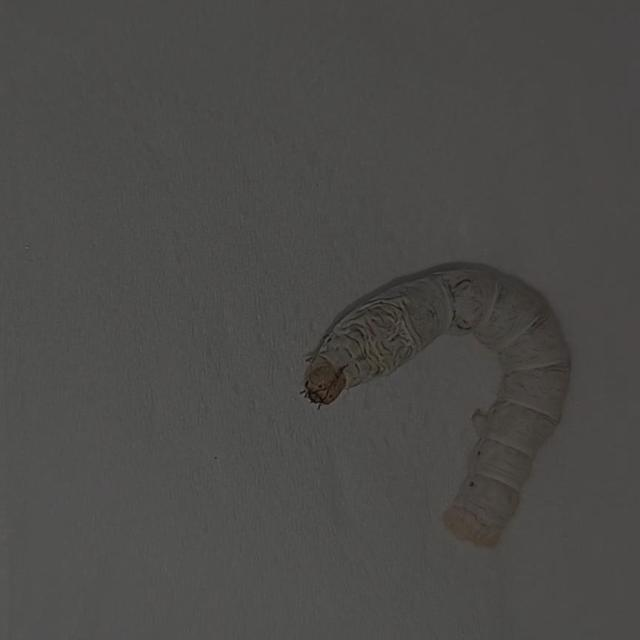Healthy: (288, 236, 587, 574)
